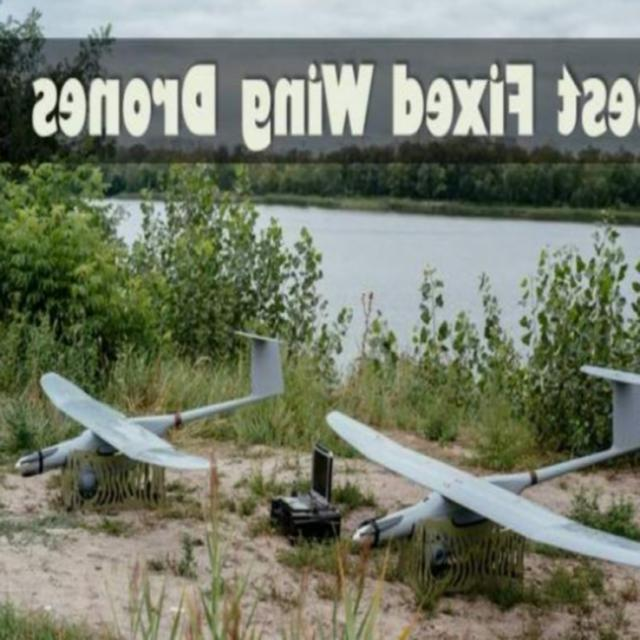plane: (322, 362, 640, 600), (13, 328, 286, 514)
